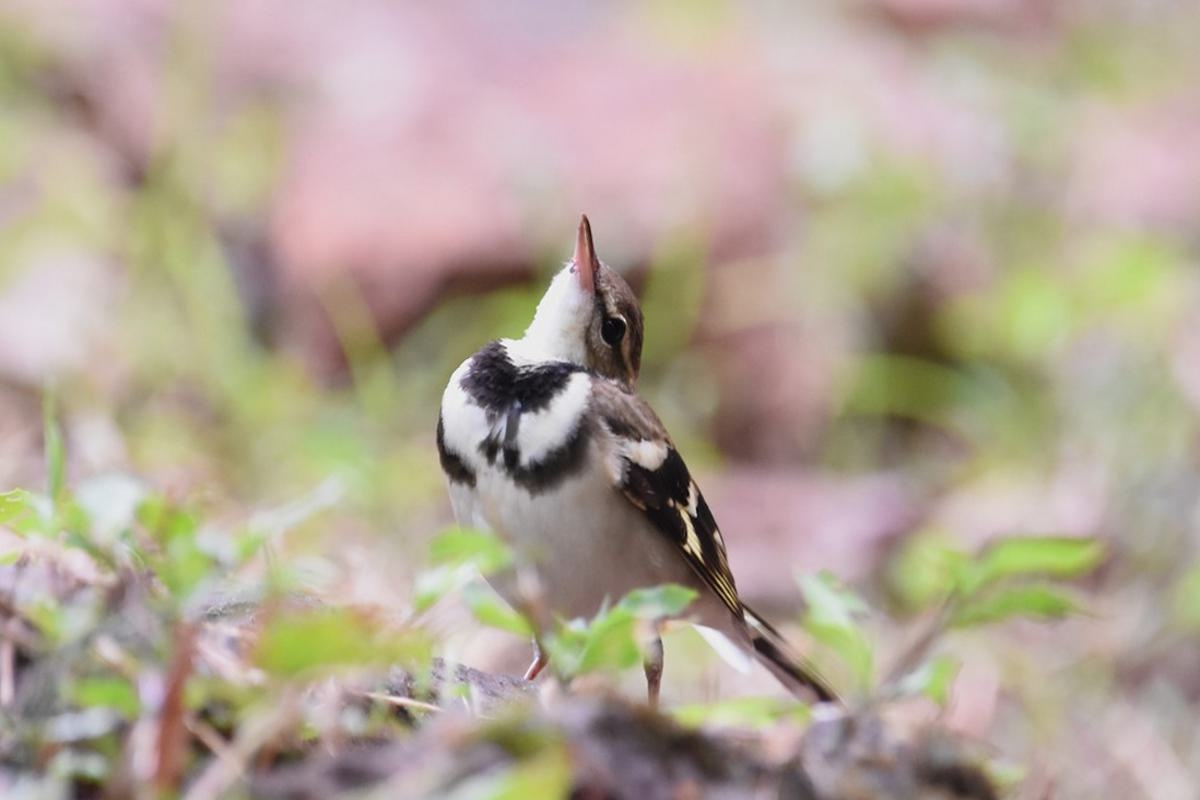wagtail: (443, 205, 798, 710)
